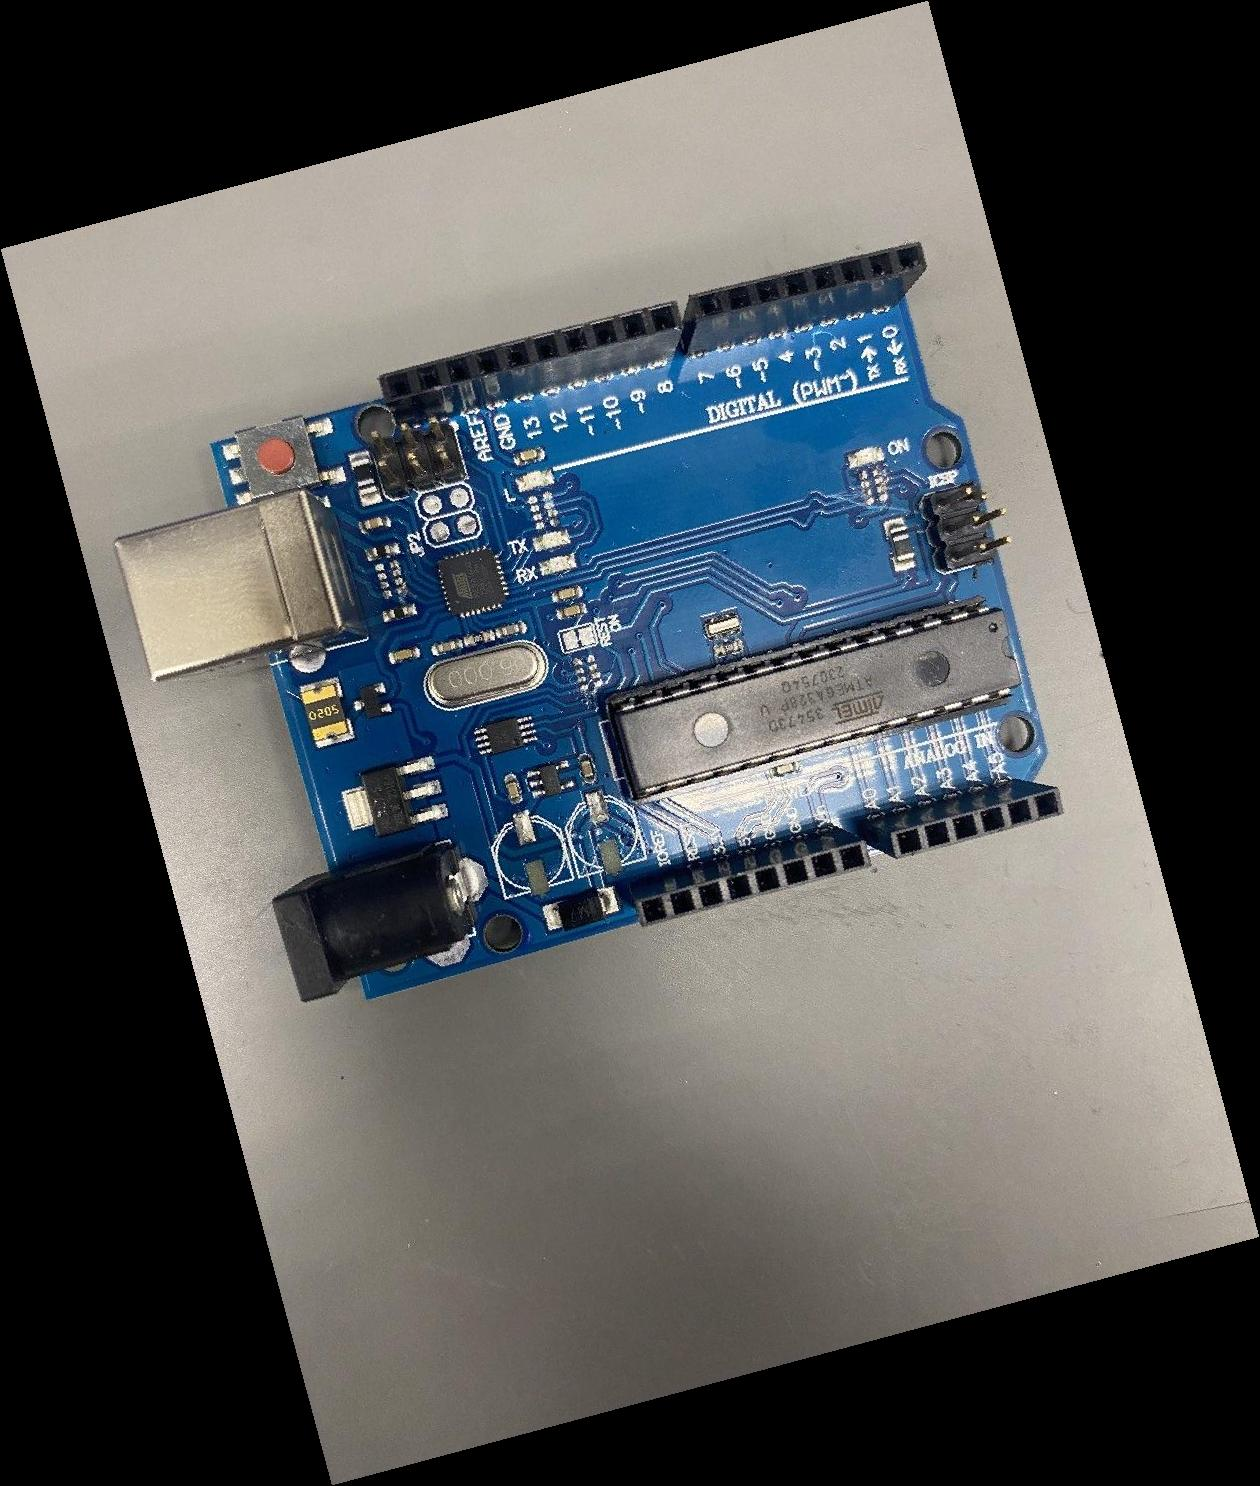ATmega328 chip: (606, 595, 1024, 805)
Arduino board: (111, 241, 1065, 1004)
USB: (112, 489, 370, 686)
pins: (379, 300, 684, 429), (681, 240, 929, 357), (631, 826, 871, 927), (860, 777, 1064, 860)
